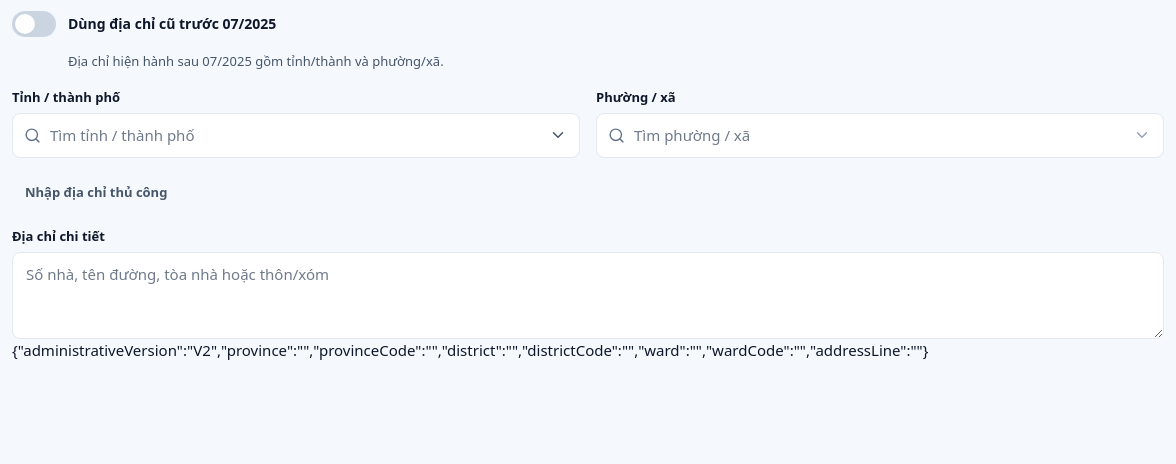
Test: VietnamAddressFields › shows the district selector only for legacy addresses and clears dependent fields
Click the checkbox labelled "Dùng địa chỉ cũ trước 07/2025".
click(144, 24)  # box [12, 11, 276, 37]
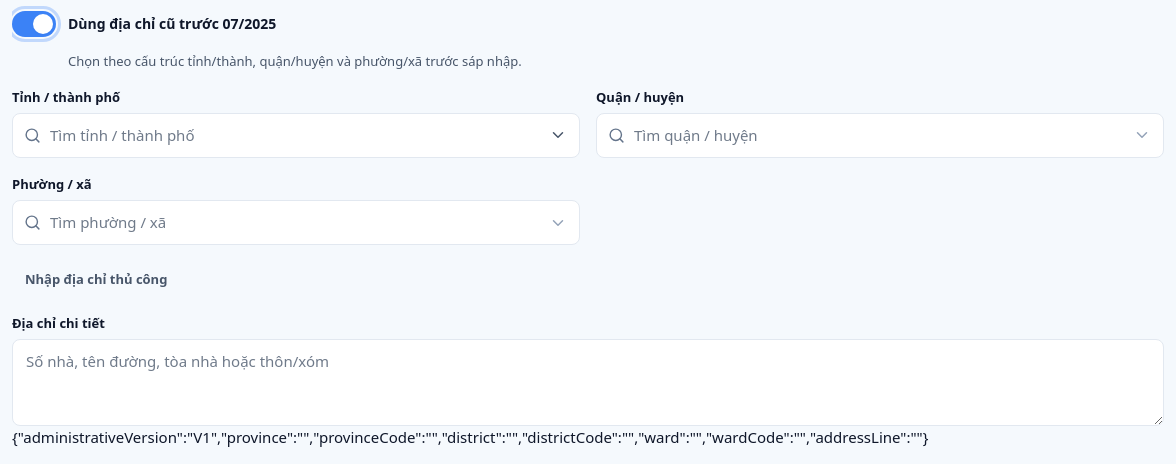
expect the text with test id "value" shows "\"provinceCode\":\"\"": met, box [12, 427, 928, 447]
expect the dropdown labelled "Quận / huyện" is disabled: met, box [596, 113, 1164, 158]
expect the text with test id "value" shows "\"administrativeVersion\":\"V1\"": met, box [12, 427, 928, 447]
